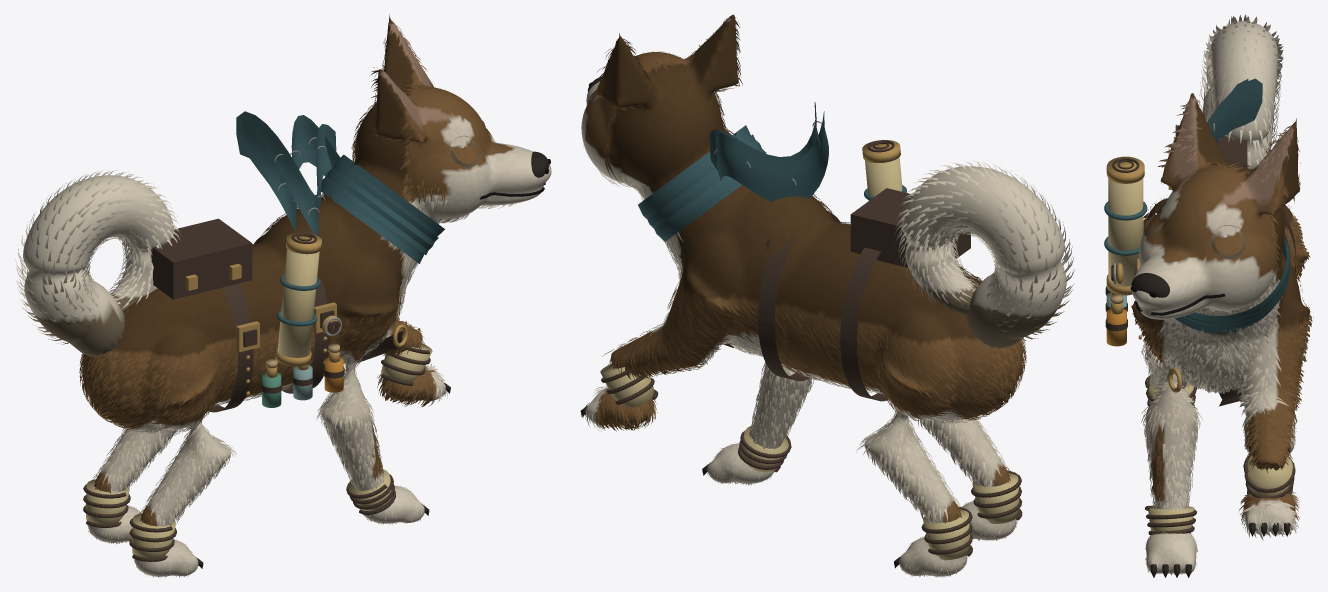
Rendered from 04_Arashi.glb.
The picture shows the model from 3 angles, left to right: view 1: azimuth 30°, elevation 25°; view 2: azimuth 150°, elevation 25°; view 3: azimuth 270°, elevation 25°; orthographic projection. The views are drawn at different scales.
Visible parts, largest first — view 1: ANATOMY | unified canine skin, FUR | groomed tapered surface clumps, ANATOMY | sculpted tail, FUR | directional tail plume, KIT | map satchel, CLOTH | trailing scarf panel 0, CLOTH | trailing scarf panel 1, KIT | rolled parchment, CLOTH | layered neck scarf, CLOTH | layered neck scarf.002, TACK | shaped belly girth, CLOTH | layered neck scarf.001 (+4 smaller); view 2: ANATOMY | unified canine skin, FUR | groomed tapered surface clumps, ANATOMY | sculpted tail, FUR | directional tail plume, CLOTH | trailing scarf panel 0, KIT | map satchel, TACK | shaped belly girth, TACK | shaped belly girth.001, CLOTH | layered neck scarf, CLOTH | layered neck scarf.002, TACK | fitted ankle wrap.002, TACK | fitted ankle wrap.003 (+5 smaller); view 3: ANATOMY | unified canine skin, FUR | groomed tapered surface clumps, ANATOMY | sculpted tail, KIT | rolled parchment, FUR | directional tail plume, CLOTH | trailing scarf panel 1, TACK | fitted ankle wrap.001, CLOTH | layered neck scarf, KIT | map satchel, CLOTH | layered neck scarf.002, KIT | scroll rim.001, TACK | fitted ankle wrap (+7 smaller).
Part boxes in pixels (<box>): ANATOMY | unified canine skin: <box>82,14,551,576</box>; FUR | groomed tapered surface clumps: <box>79,24,516,577</box>; ANATOMY | sculpted tail: <box>23,175,174,357</box>; FUR | directional tail plume: <box>15,170,179,344</box>; KIT | map satchel: <box>151,218,252,299</box>; CLOTH | trailing scarf panel 0: <box>243,115,340,230</box>; CLOTH | trailing scarf panel 1: <box>236,111,336,236</box>; KIT | rolled parchment: <box>277,248,319,357</box>; CLOTH | layered neck scarf: <box>333,154,444,246</box>; CLOTH | layered neck scarf.002: <box>320,176,431,263</box>; TACK | shaped belly girth: <box>210,283,253,412</box>; CLOTH | layered neck scarf.001: <box>327,167,438,254</box>; ANATOMY | unified canine skin: <box>581,14,1022,576</box>; FUR | groomed tapered surface clumps: <box>581,18,1026,577</box>; ANATOMY | sculpted tail: <box>902,166,1066,348</box>; FUR | directional tail plume: <box>895,160,1074,340</box>; CLOTH | trailing scarf panel 0: <box>716,111,828,201</box>; KIT | map satchel: <box>850,188,970,267</box>; TACK | shaped belly girth: <box>840,247,888,401</box>; TACK | shaped belly girth.001: <box>758,212,840,381</box>; CLOTH | layered neck scarf: <box>638,125,759,218</box>; CLOTH | layered neck scarf.002: <box>654,143,761,241</box>; TACK | fitted ankle wrap.002: <box>972,473,1019,523</box>; TACK | fitted ankle wrap.003: <box>923,509,969,560</box>; ANATOMY | unified canine skin: <box>1131,93,1310,573</box>; FUR | groomed tapered surface clumps: <box>1132,97,1313,575</box>; ANATOMY | sculpted tail: <box>1202,21,1278,168</box>; KIT | rolled parchment: <box>1108,178,1143,286</box>; FUR | directional tail plume: <box>1199,14,1283,169</box>; CLOTH | trailing scarf panel 1: <box>1207,78,1262,171</box>; TACK | fitted ankle wrap.001: <box>1247,455,1292,496</box>; CLOTH | layered neck scarf: <box>1185,234,1290,324</box>; KIT | map satchel: <box>1175,125,1247,167</box>; CLOTH | layered neck scarf.002: <box>1175,247,1290,333</box>; KIT | scroll rim.001: <box>1106,156,1144,183</box>; TACK | fitted ankle wrap: <box>1148,506,1194,533</box>.
Size of the model in its own units: 1.44 by 1.26 by 0.4996.
14 materials, 1 textured.
